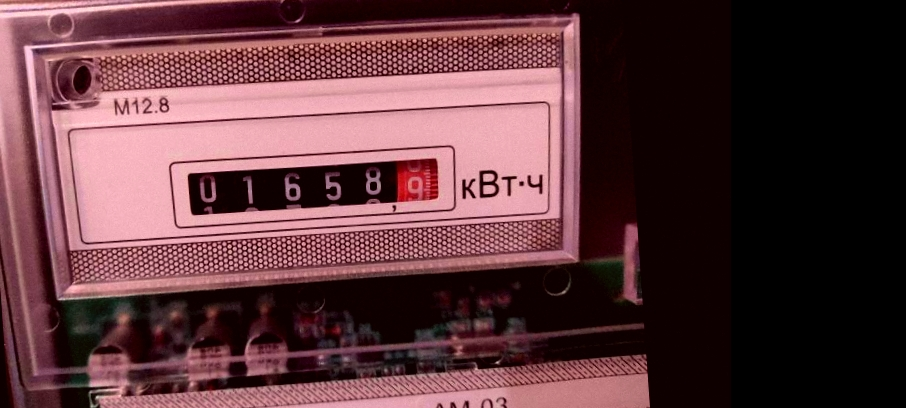0: (195, 172, 218, 203)
1: (239, 172, 258, 205)
5: (321, 168, 344, 200)
6: (280, 168, 303, 202)
8: (361, 162, 383, 195)
9: (402, 173, 425, 203)
screen: (158, 133, 463, 236)
